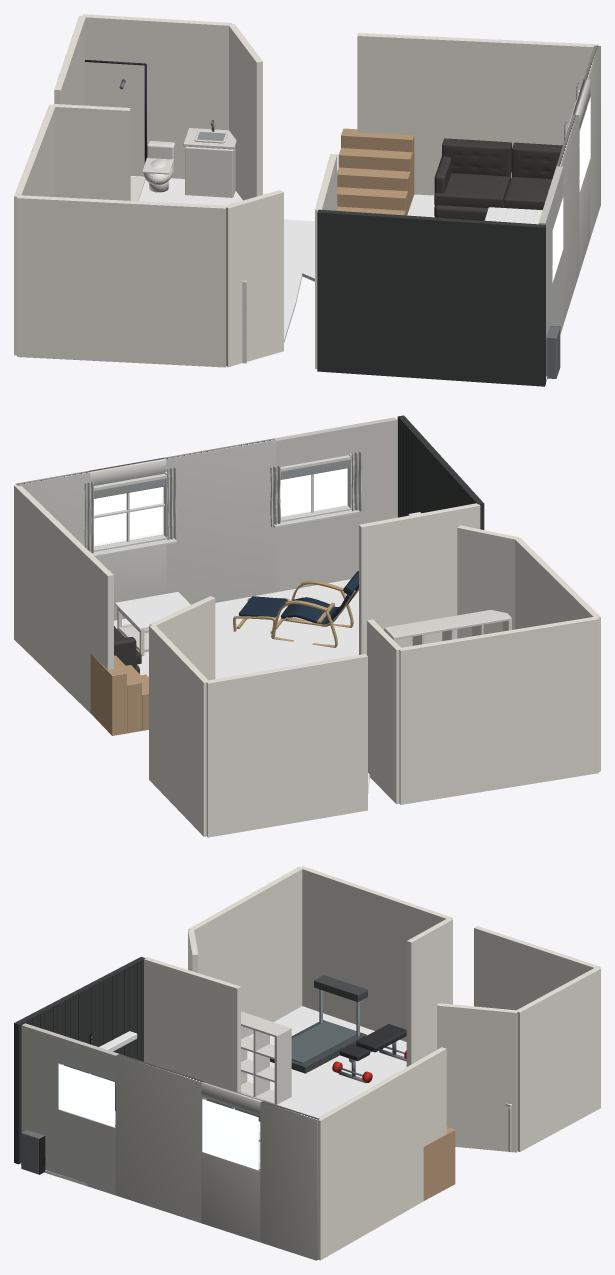
The picture shows the model from 3 angles, top to bottom: view 1: azimuth 30°, elevation 25°; view 2: azimuth 150°, elevation 25°; view 3: azimuth 270°, elevation 25°; orthographic projection. The views are drawn at different scales.
Parts seen in each view (by area): view 1: source-wall-8-replacement, home-lower-level_observed_wall_0_panel, home-lower-level_observed_wall_6_panel, home-lower-level_observed_wall_4_panel, home-lower-level_observed_wall_10_panel, home-lower-level_observed_wall_2_panel, home-lower-level_observed_wall_5_panel, home-lower-level_independently_traced_floor, actual-second-window-wall-between-windows, home-lower-level_observed_wall_1_panel, home-lower-level__bath_vanity__cabinet, home-lower-level__lounge_sofa__back_0__source_closed (+21 smaller); view 2: home-lower-level_observed_wall_1_panel, home-lower-level_observed_wall_3_panel, actual-second-window-wall-between-windows, home-lower-level_observed_wall_6_panel, home-lower-level_observed_wall_9_panel, home-lower-level_observed_wall_4_panel, home-lower-level_independently_traced_floor, home-lower-level_observed_wall_10_panel, home-lower-level_observed_wall_2_panel, source-wall-8-replacement, actual-window-cutout-wall-below, actual-window-cutout-wall-left (+20 smaller); view 3: home-lower-level_observed_wall_6_panel, home-lower-level_observed_wall_1_panel, actual-second-window-wall-between-windows, home-lower-level_observed_wall_4_panel, home-lower-level_observed_wall_0_panel, home-lower-level_observed_wall_5_panel, home-lower-level_observed_wall_9_panel, actual-second-window-wall-rightof-second, source-wall-8-replacement, home-lower-level_observed_wall_3_panel, home-lower-level_independently_traced_floor, home-lower-level_observed_wall_2_panel (+16 smaller).
Boxes of the visible parts, bbox=[...] form: source-wall-8-replacement: bbox=[317, 209, 545, 386]; home-lower-level_observed_wall_0_panel: bbox=[17, 195, 226, 367]; home-lower-level_observed_wall_6_panel: bbox=[357, 33, 598, 195]; home-lower-level_observed_wall_4_panel: bbox=[83, 14, 231, 178]; home-lower-level_observed_wall_10_panel: bbox=[226, 190, 283, 367]; home-lower-level_observed_wall_2_panel: bbox=[52, 104, 130, 200]; home-lower-level_observed_wall_5_panel: bbox=[229, 24, 262, 200]; home-lower-level_independently_traced_floor: bbox=[130, 176, 547, 382]; actual-second-window-wall-between-windows: bbox=[556, 115, 579, 324]; home-lower-level_observed_wall_1_panel: bbox=[14, 105, 55, 355]; home-lower-level__bath_vanity__cabinet: bbox=[185, 146, 235, 197]; home-lower-level__lounge_sofa__back_0__source_closed: bbox=[442, 138, 511, 176]; home-lower-level_observed_wall_1_panel: bbox=[399, 617, 598, 804]; home-lower-level_observed_wall_3_panel: bbox=[206, 654, 367, 837]; actual-second-window-wall-between-windows: bbox=[164, 438, 276, 604]; home-lower-level_observed_wall_6_panel: bbox=[14, 485, 113, 713]; home-lower-level_observed_wall_9_panel: bbox=[359, 503, 480, 654]; home-lower-level_observed_wall_4_panel: bbox=[149, 624, 207, 836]; home-lower-level_independently_traced_floor: bbox=[114, 579, 369, 793]; home-lower-level_observed_wall_10_panel: bbox=[457, 525, 518, 638]; home-lower-level_observed_wall_2_panel: bbox=[367, 619, 401, 803]; source-wall-8-replacement: bbox=[397, 415, 484, 529]; actual-window-cutout-wall-below: bbox=[276, 505, 350, 592]; actual-window-cutout-wall-left: bbox=[348, 417, 397, 579]; home-lower-level_observed_wall_6_panel: bbox=[318, 1047, 446, 1260]; home-lower-level_observed_wall_1_panel: bbox=[302, 866, 452, 1041]; actual-second-window-wall-between-windows: bbox=[115, 1054, 204, 1222]; home-lower-level_observed_wall_4_panel: bbox=[515, 967, 600, 1151]; home-lower-level_observed_wall_0_panel: bbox=[188, 866, 303, 1036]; home-lower-level_observed_wall_5_panel: bbox=[437, 1003, 517, 1152]; home-lower-level_observed_wall_9_panel: bbox=[144, 957, 240, 1092]; actual-second-window-wall-rightof-second: bbox=[260, 1101, 319, 1260]; source-wall-8-replacement: bbox=[14, 956, 145, 1164]; home-lower-level_observed_wall_3_panel: bbox=[474, 926, 600, 1010]; home-lower-level_independently_traced_floor: bbox=[21, 1006, 406, 1186]; home-lower-level_observed_wall_2_panel: bbox=[406, 918, 452, 1066].
Size of the model in its own units: 8.99 by 2.3 by 8.76.
